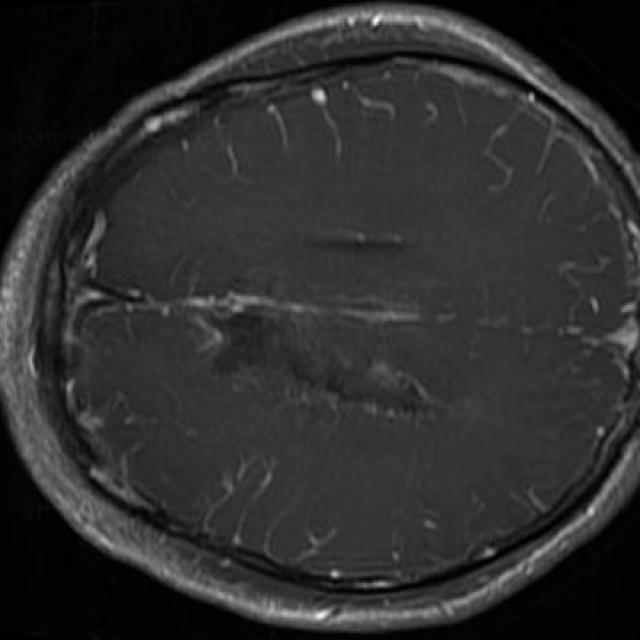glioma: (201, 283, 426, 412)
